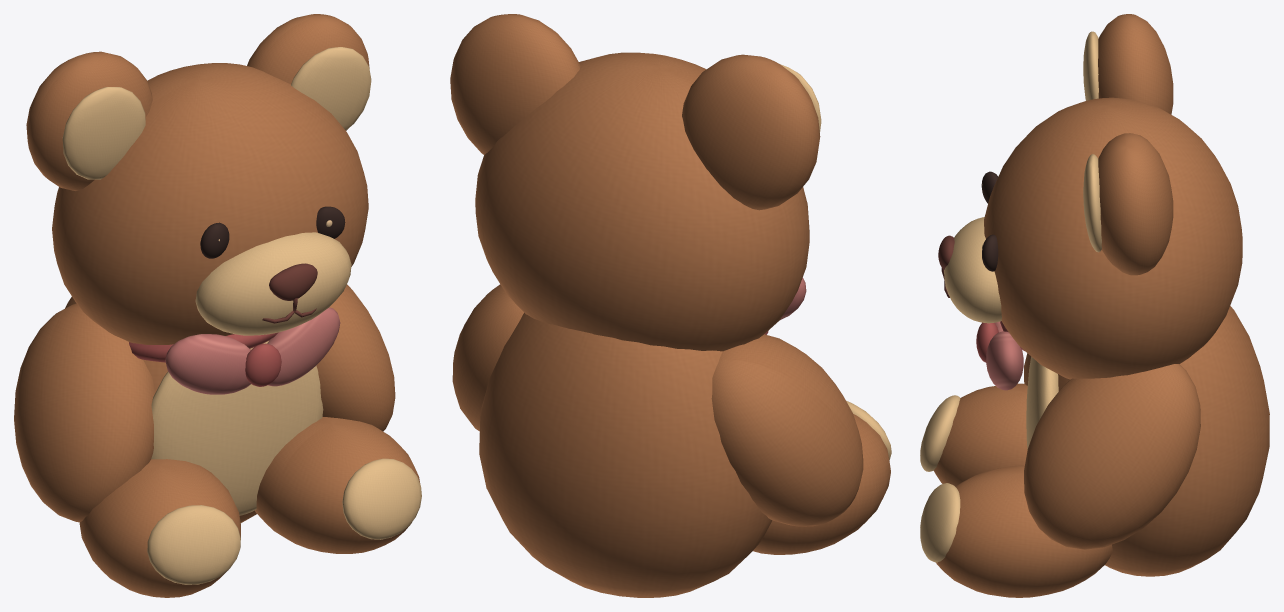
The model's file is SM_BunkerTeddyBear_sol62max.fbx.
The picture shows the model from 3 angles, left to right: view 1: azimuth 30°, elevation 25°; view 2: azimuth 150°, elevation 25°; view 3: azimuth 270°, elevation 25°; orthographic projection. The views are drawn at different scales.
Visible parts, largest first — view 1: SM_BunkerTeddyBear_sol62max; view 2: SM_BunkerTeddyBear_sol62max; view 3: SM_BunkerTeddyBear_sol62max.
Boxes of the visible parts, x1,y1,x2,y2 form: SM_BunkerTeddyBear_sol62max: [14, 14, 421, 597]; SM_BunkerTeddyBear_sol62max: [450, 14, 891, 597]; SM_BunkerTeddyBear_sol62max: [920, 14, 1269, 597].
Size of the model in its own units: 42.71 by 37.76 by 57.29.
1 material, 1 textured.
